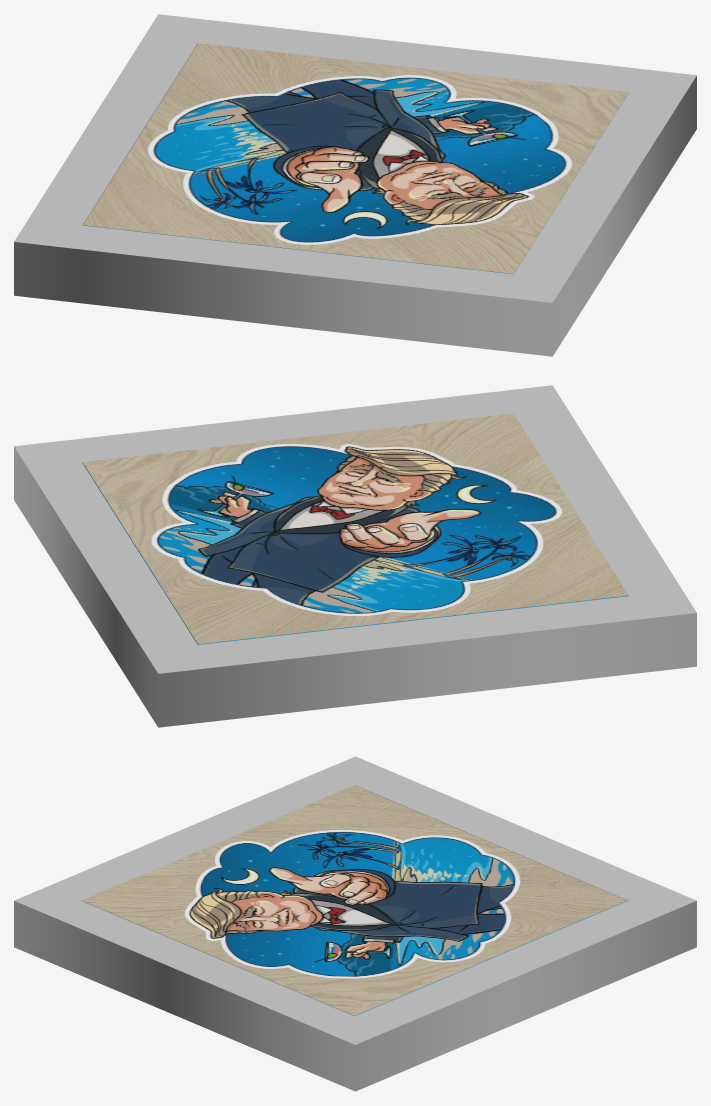
The model's file is Puzzle_34.FBX.
3 renders of one model, top to bottom at view 1: azimuth 30°, elevation 25°; view 2: azimuth 150°, elevation 25°; view 3: azimuth 270°, elevation 25°, orthographic. The views are drawn at different scales.
Visible parts, largest first — view 1: Wood, 2, 3, 4, 1, 5; view 2: Wood, 2, 3, 4, 1, 5; view 3: Wood, 2, 3, 4, 1, 5.
Boxes of the visible parts, left/top/right/bottom form: Wood: left=14, top=14, right=696, bottom=356; 2: left=140, top=43, right=492, bottom=191; 3: left=187, top=129, right=434, bottom=261; 4: left=365, top=144, right=571, bottom=274; 1: left=351, top=68, right=629, bottom=182; 5: left=83, top=120, right=256, bottom=237; Wood: left=14, top=385, right=696, bottom=727; 2: left=139, top=495, right=492, bottom=644; 3: left=287, top=460, right=600, bottom=562; 4: left=257, top=413, right=542, bottom=511; 1: left=82, top=438, right=328, bottom=567; 5: left=351, top=534, right=628, bottom=619; Wood: left=14, top=756, right=696, bottom=1091; 2: left=354, top=841, right=627, bottom=959; 3: left=152, top=813, right=422, bottom=929; 4: left=81, top=871, right=350, bottom=958; 1: left=218, top=928, right=487, bottom=1015; 5: left=288, top=785, right=487, bottom=869.
Bounding box in the file's own units: 4.26 × 0.3228 × 4.26.
